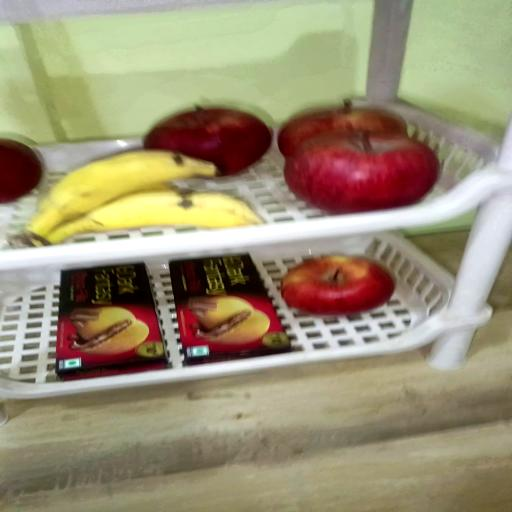Apple: (284, 131, 439, 218), (145, 104, 273, 174), (279, 99, 408, 158), (282, 256, 395, 318), (0, 137, 43, 202)
Choco Fills: (174, 254, 292, 367), (56, 264, 166, 381)
